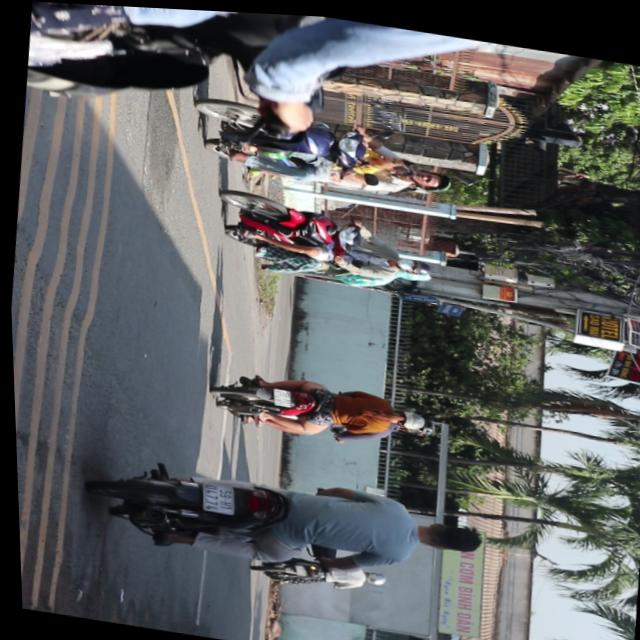helmet: (407, 161, 451, 187), (393, 249, 431, 271), (390, 402, 425, 425)
licenseplate: (86, 443, 488, 593), (189, 81, 459, 199), (212, 182, 439, 282), (206, 358, 430, 449)
motorcyclist: (412, 510, 481, 552), (378, 148, 416, 171)
nohelmet: (198, 478, 233, 511), (269, 384, 289, 403)
